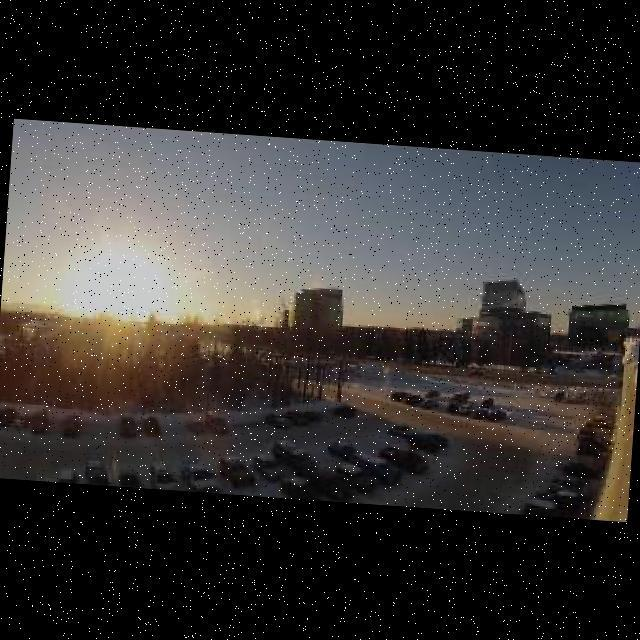Smoke: (500, 293, 529, 311)
